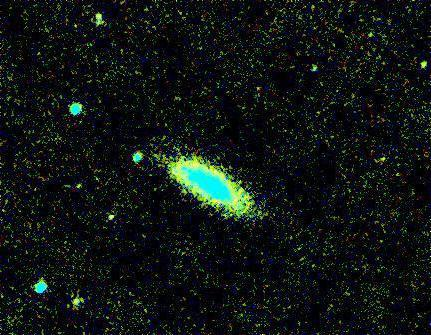star: (99, 199, 129, 229)
